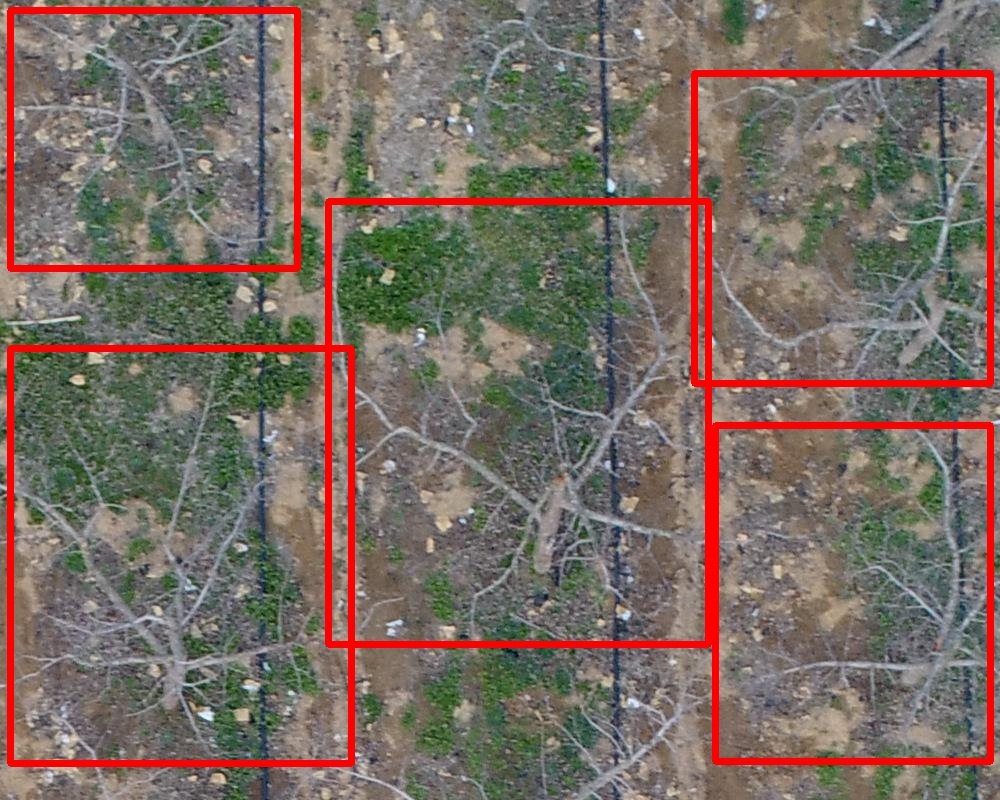apple: (328, 201, 708, 644), (10, 348, 351, 763), (715, 425, 990, 761), (694, 73, 990, 383), (10, 10, 297, 268)
